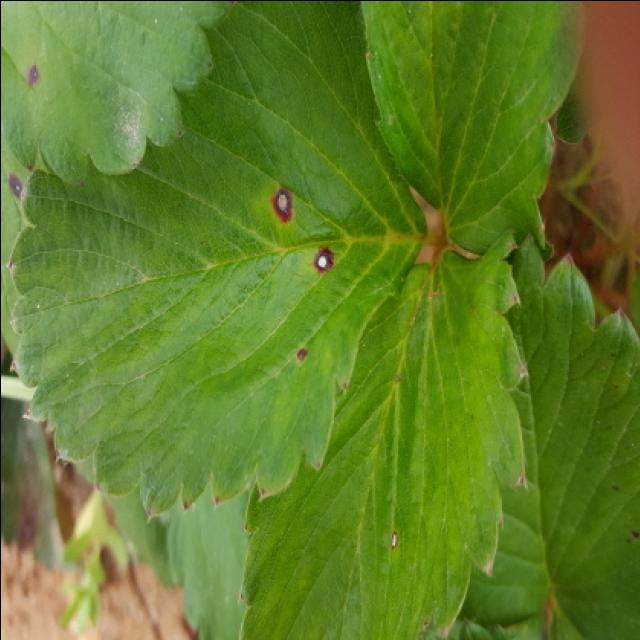Leaf Spot: (6, 2, 428, 520), (235, 227, 528, 640), (458, 230, 640, 640), (2, 2, 231, 186)
